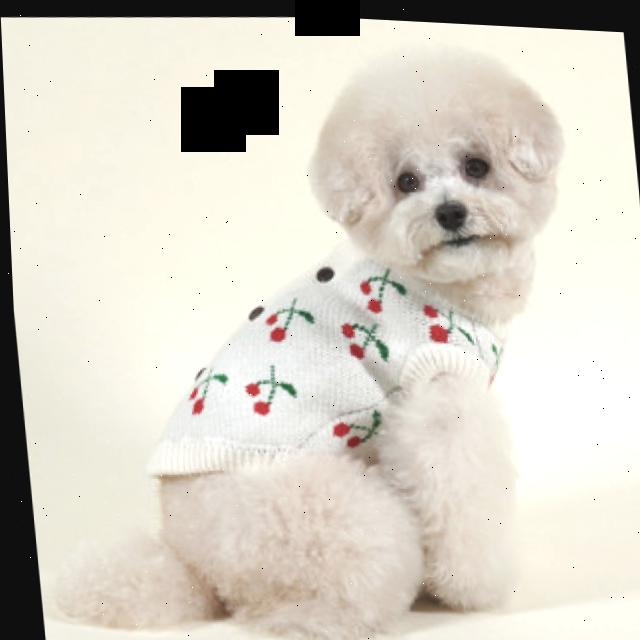cloth: (144, 237, 499, 471)
